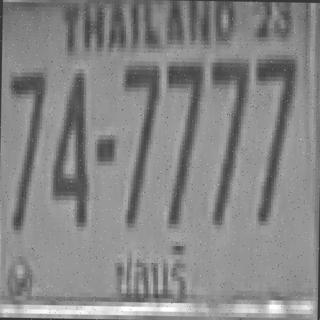N04: (50, 68, 89, 222)
N07: (251, 50, 295, 222), (208, 56, 246, 223), (6, 68, 45, 230), (163, 57, 200, 224), (120, 60, 157, 224), (252, 50, 296, 169)
P13: (108, 236, 192, 308)
